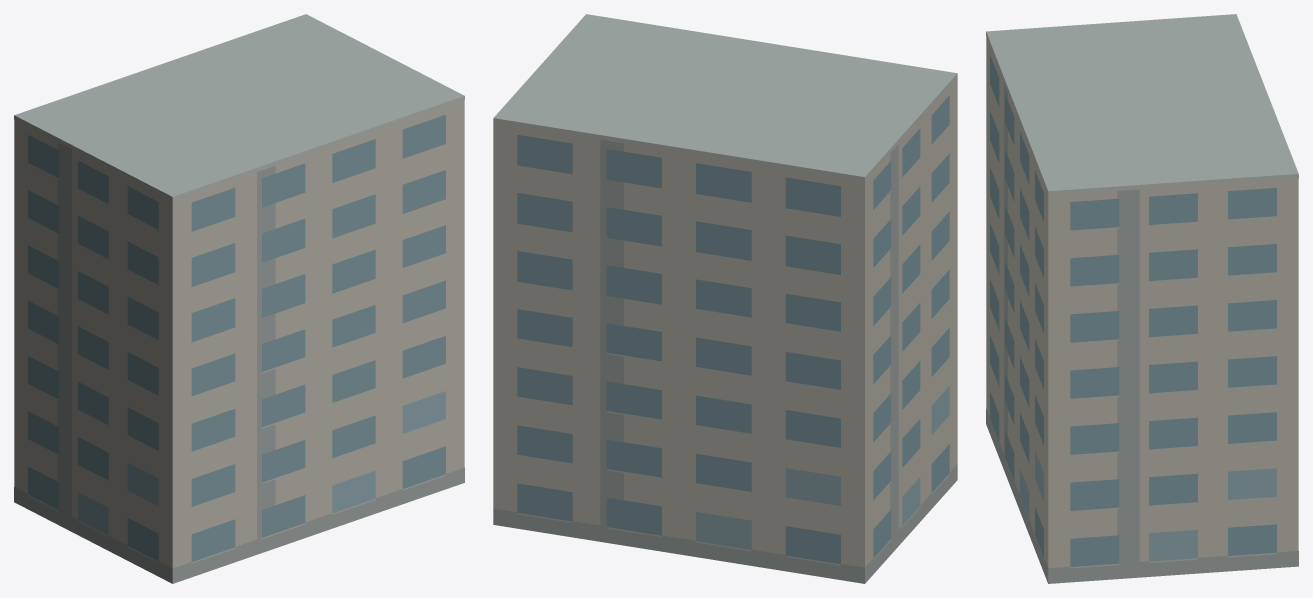
File: residential-4b1d9a27-69bf-4fb9-82ea-662d7d2cde30.glb
3 renders of one model, left to right at view 1: azimuth 30°, elevation 25°; view 2: azimuth 150°, elevation 25°; view 3: azimuth 270°, elevation 25°, orthographic. The views are drawn at different scales.
Parts seen in each view (by area): view 1: residential-4b1d9a27-69bf-4fb9-82ea-662d7d2cde30.tmp; view 2: residential-4b1d9a27-69bf-4fb9-82ea-662d7d2cde30.tmp; view 3: residential-4b1d9a27-69bf-4fb9-82ea-662d7d2cde30.tmp.
Boxes of the visible parts, x1=… form: residential-4b1d9a27-69bf-4fb9-82ea-662d7d2cde30.tmp: x1=14, y1=14, x2=464, y2=583; residential-4b1d9a27-69bf-4fb9-82ea-662d7d2cde30.tmp: x1=493, y1=14, x2=957, y2=583; residential-4b1d9a27-69bf-4fb9-82ea-662d7d2cde30.tmp: x1=986, y1=14, x2=1298, y2=583.
Bounding box in the file's own units: 20.67 × 21.35 × 15.42.
